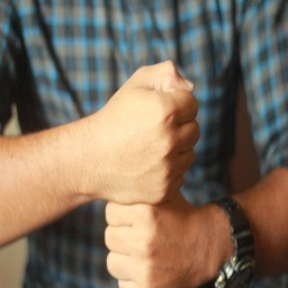G: (63, 55, 210, 288)
